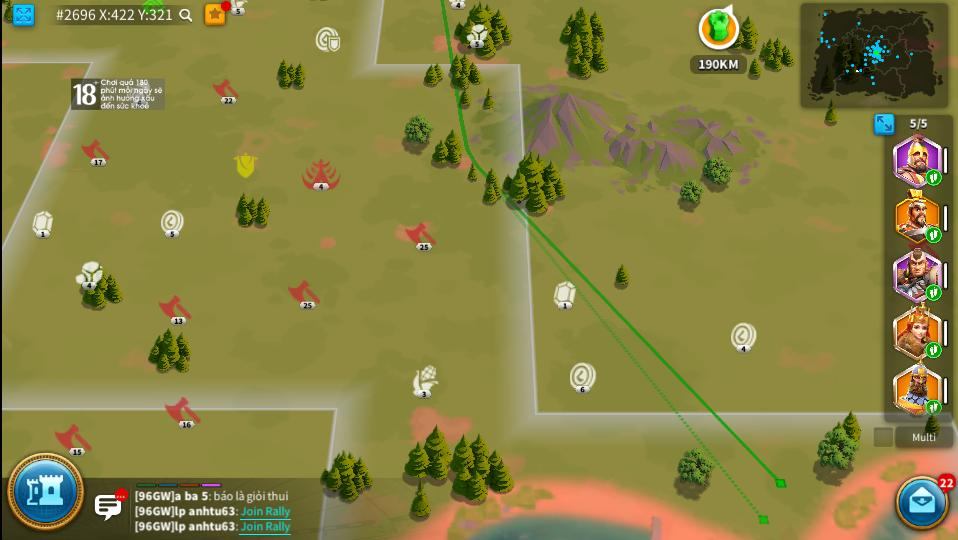gem-z-out: (553, 282, 578, 310), (32, 211, 53, 239)
march_marching: (925, 228, 942, 242), (926, 170, 940, 185), (927, 400, 941, 415), (926, 285, 940, 299), (928, 343, 940, 357)
